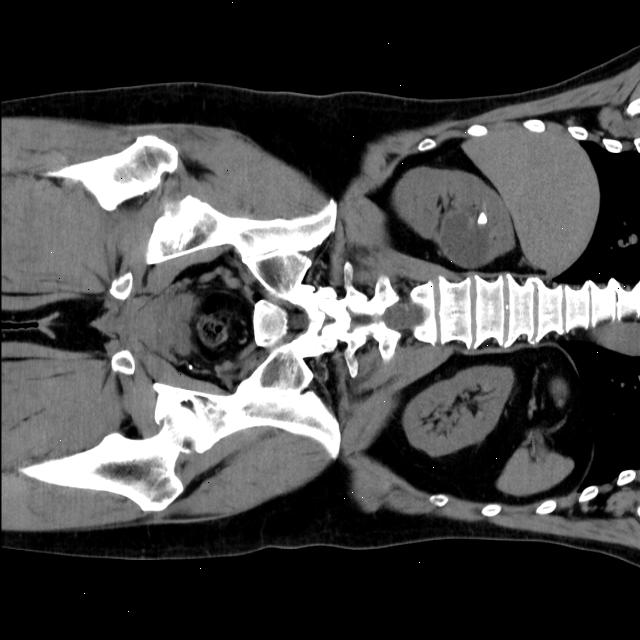kidneystone: (476, 212, 486, 225)
